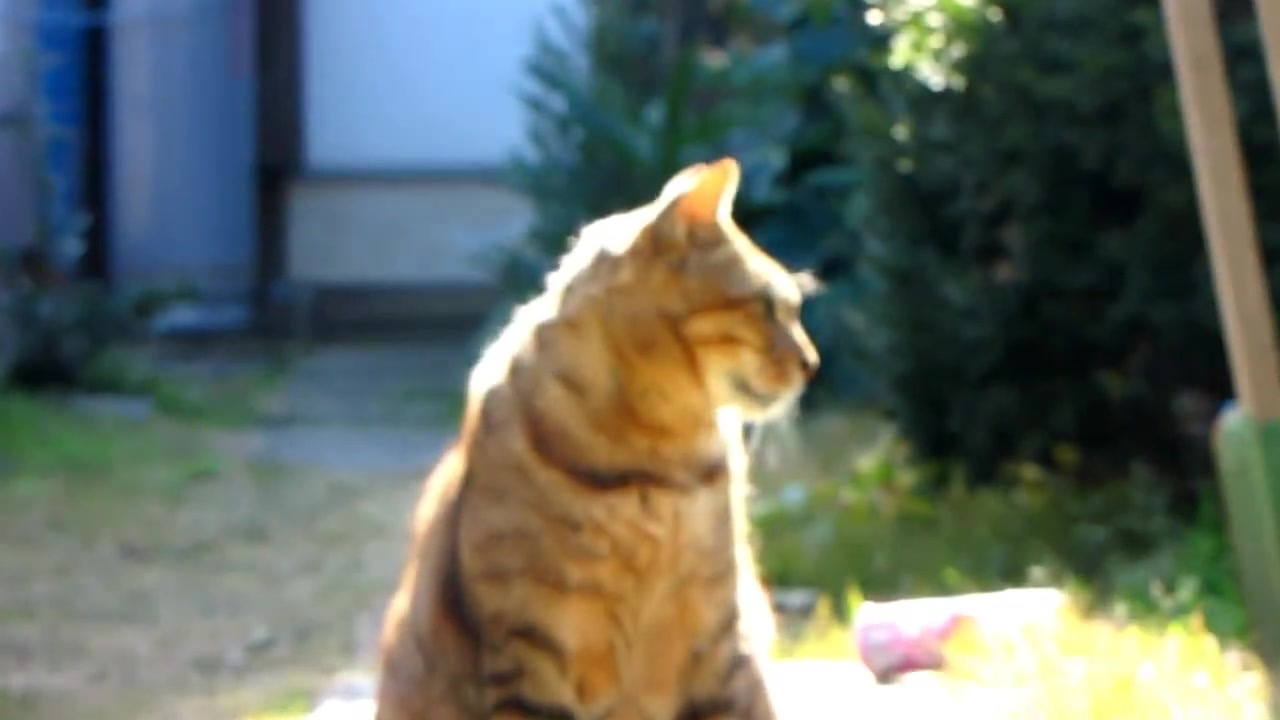cat: (366, 155, 829, 720)
